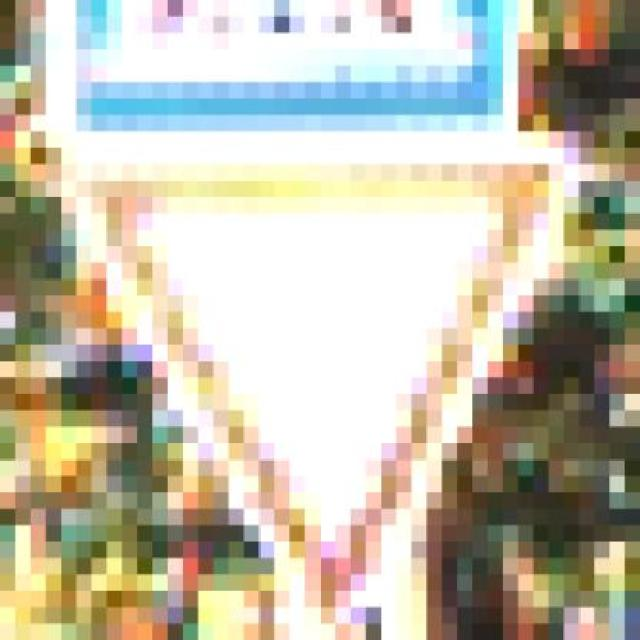Give Way: (57, 148, 606, 626)
